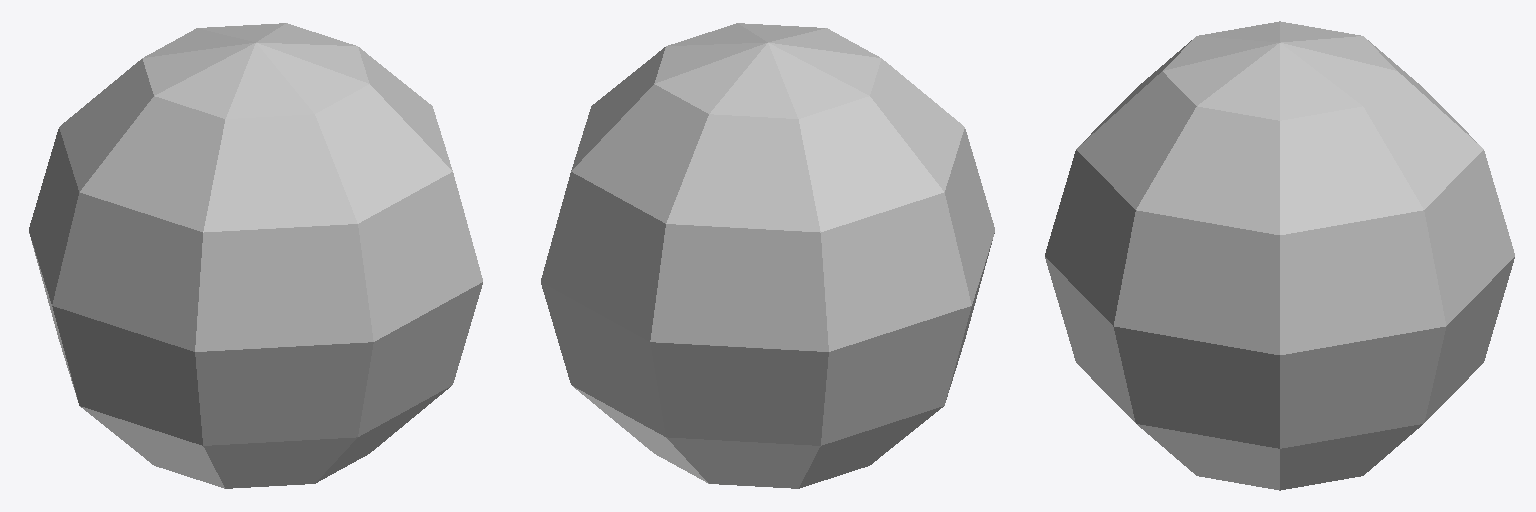
Rendered from bala.obj.
3 renders of one model, left to right at view 1: azimuth 30°, elevation 25°; view 2: azimuth 150°, elevation 25°; view 3: azimuth 270°, elevation 25°, orthographic.
Parts seen in each view (by area): view 1: Sphere; view 2: Sphere; view 3: Sphere.
Boxes of the visible parts, x1=… form: Sphere: x1=29, y1=23, x2=482, y2=488; Sphere: x1=541, y1=23, x2=994, y2=488; Sphere: x1=1045, y1=21, x2=1514, y2=490.
Bounding box in the file's own units: 0.1513 × 0.1513 × 0.1513.